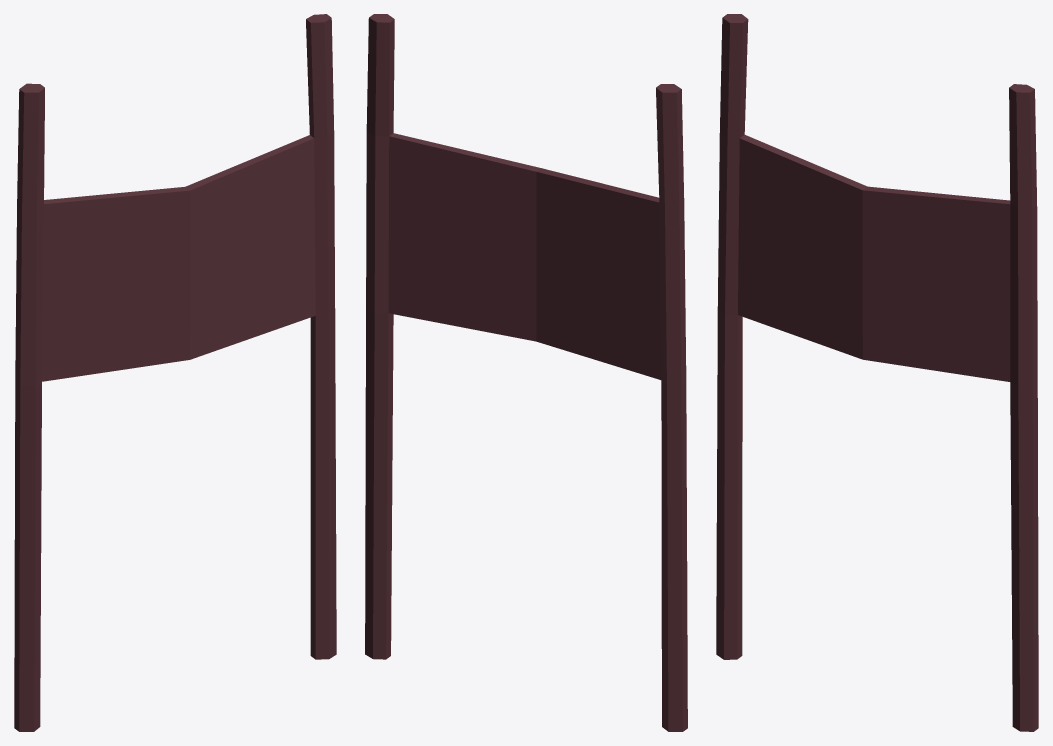
The model's file is sport-ski-flag.glb.
The picture shows the model from 3 angles, left to right: view 1: azimuth 30°, elevation 25°; view 2: azimuth 150°, elevation 25°; view 3: azimuth 330°, elevation 25°; orthographic projection.
Parts seen in each view (by area): view 1: ski-flag; view 2: ski-flag; view 3: ski-flag.
Boxes of the visible parts, box(x1,y1,x2,y2) form: ski-flag: box(14, 14, 336, 731); ski-flag: box(365, 14, 687, 731); ski-flag: box(716, 14, 1038, 731).
Size of the model in its own units: 0.9957 by 1.91 by 0.1166.
